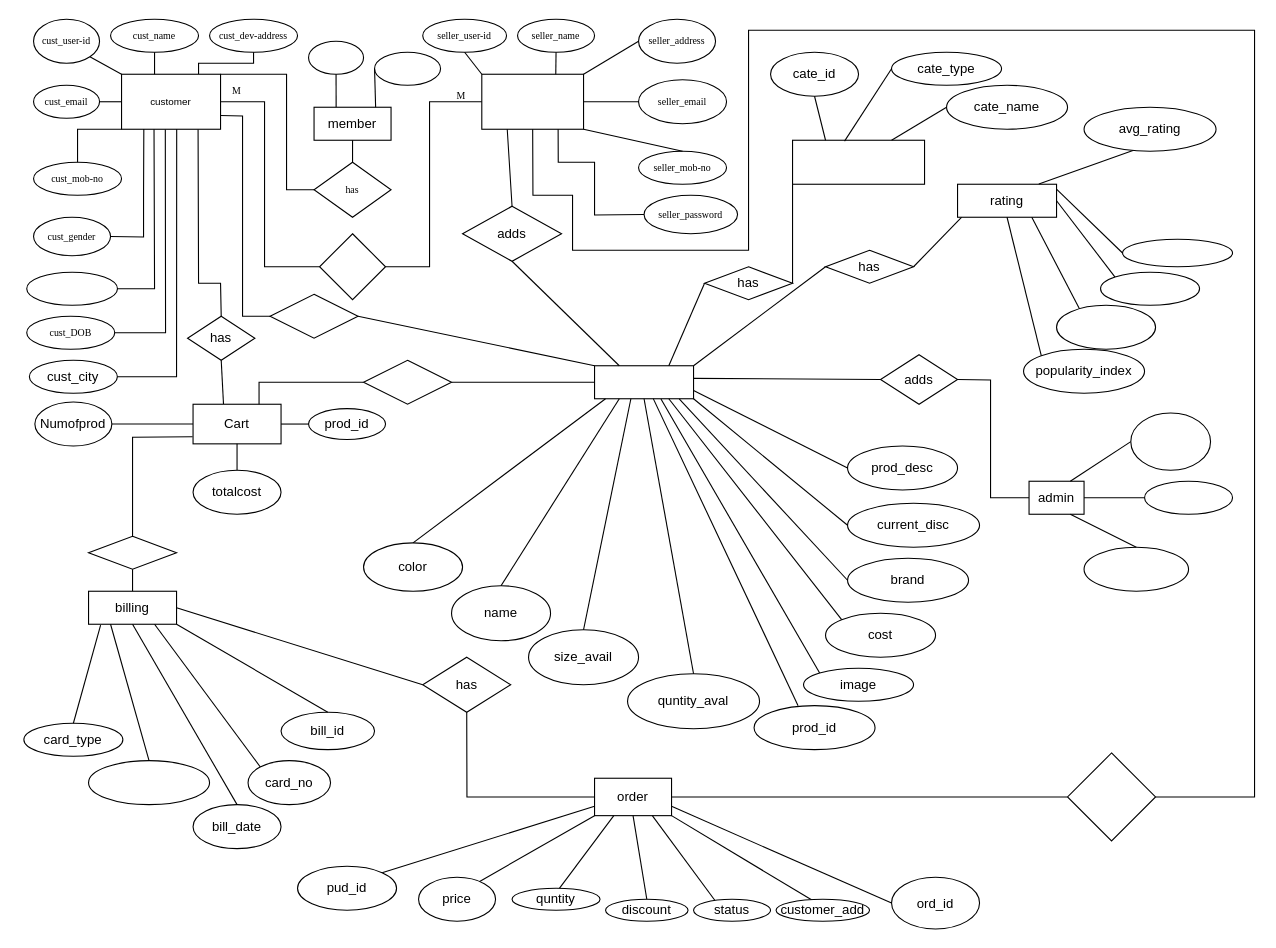
The diagram is 1276 pixels wide and 948 high, and some of its shapes have lost their labels. Here are the shapes that lost their labels. From the top down, the box of each, then its label:
(307, 40, 364, 74): Prime-member
(373, 51, 441, 85): Basic_member
(481, 73, 584, 129): seller
(791, 139, 925, 184): categories
(318, 233, 386, 300): login
(1121, 238, 1233, 267): total_rating
(26, 271, 117, 305): cust_password
(1099, 271, 1200, 305): reviews
(269, 293, 358, 338): views
(1055, 304, 1156, 349): countryofrating
(362, 359, 452, 404): add
(593, 365, 694, 399): product
(1130, 412, 1211, 470): admin_id
(1143, 480, 1233, 514): admin_name
(87, 535, 177, 569): Checkout
(1083, 546, 1189, 591): admin_password
(87, 760, 210, 805): deliv_date
(1066, 752, 1156, 841): recived by
